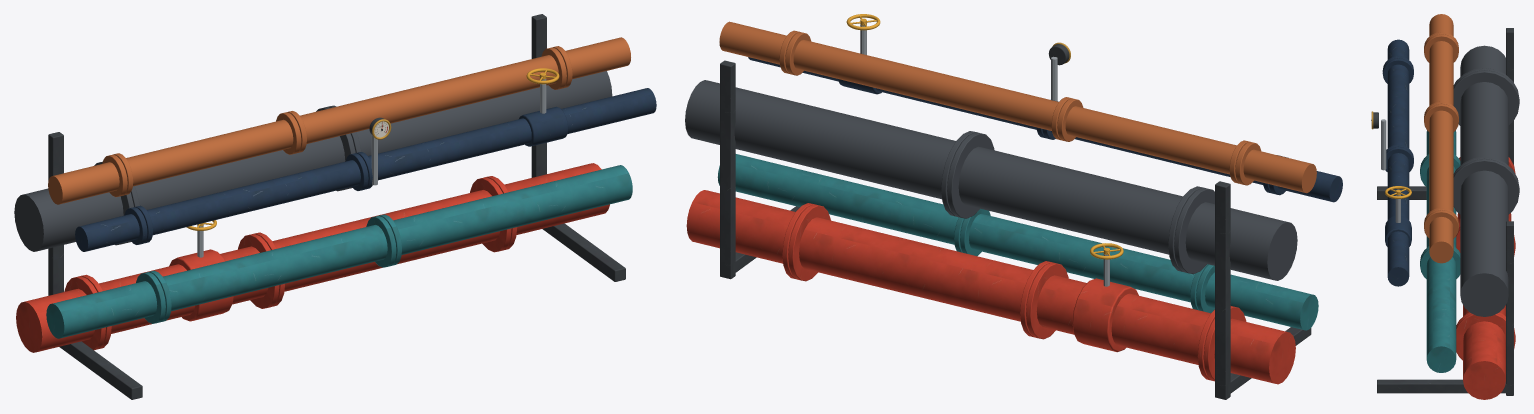
Rendered from PipeBankA.glb.
3 views of the same model, side by side, from view 1: azimuth 30°, elevation 25°; view 2: azimuth 150°, elevation 25°; view 3: azimuth 270°, elevation 25° (orthographic). The views are drawn at different scales.
Visible parts, largest first — view 1: PipeBankA_Body; view 2: PipeBankA_Body; view 3: PipeBankA_Body, PipeBankA_Valve2.
Boxes of the visible parts, x1,y1,x2,y2 form: PipeBankA_Body: (14, 14, 656, 399); PipeBankA_Body: (685, 21, 1342, 399); PipeBankA_Body: (1371, 14, 1519, 399); PipeBankA_Valve2: (1385, 186, 1411, 198).
Size of the model in its own units: 4 by 1.52 by 1.1.
Materials: 11 (6 with a texture image).
